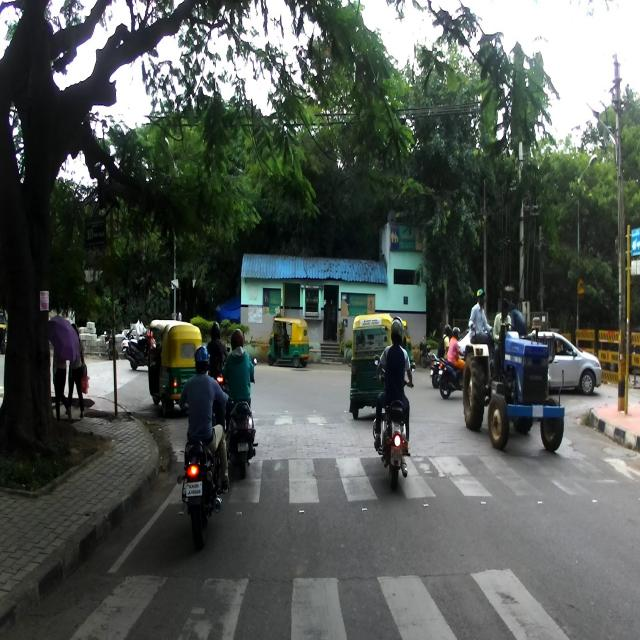autorickshaw: (148, 318, 203, 412)
motorcycle_RoyalEnfield: (373, 348, 416, 492)
motorcycle_bajaj: (178, 391, 234, 548)
scooter: (220, 355, 259, 478)
